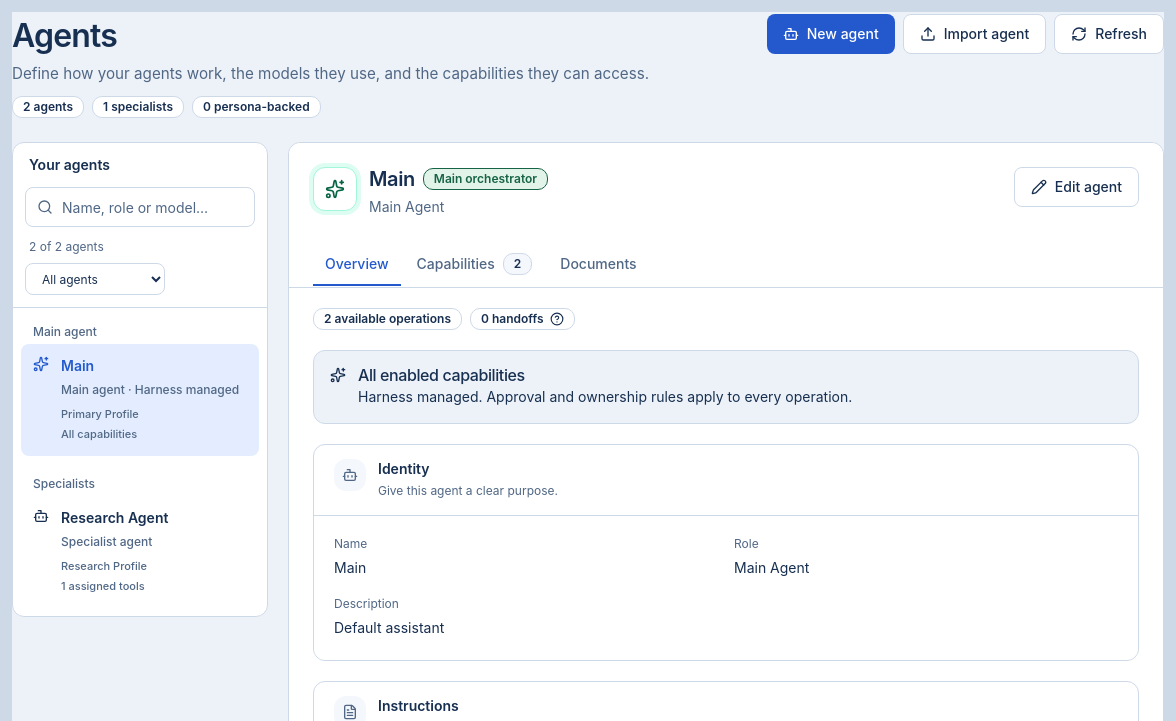
Test: AgentsWorkspace › searches the directory without changing grants and restores the harness when cleared
The width and height of the screenshot is (1176, 721).
Expected: the button with aria-label "Inspect Main" is shown, x1=21 y1=344 x2=259 y2=456
Type "research" into the search field named "Search agents" at point(140, 207), box x1=25 y1=187 x2=255 y2=227
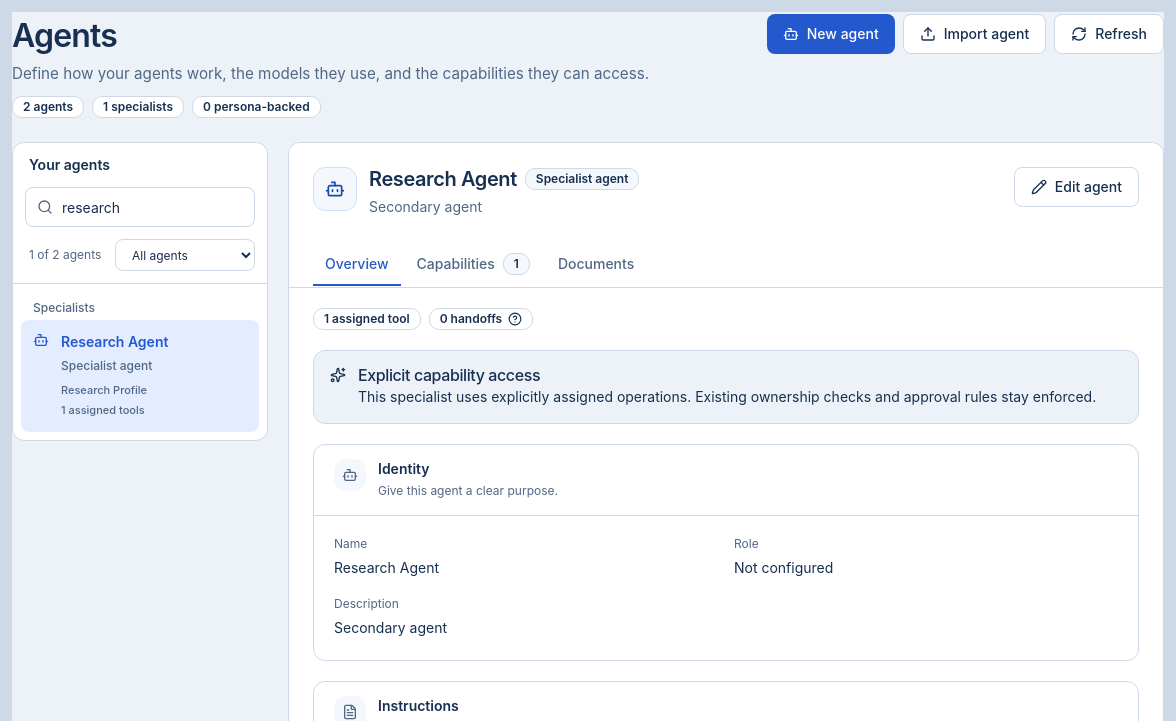
Clear the search field named "Search agents" at point(140, 207), box x1=25 y1=187 x2=255 y2=227
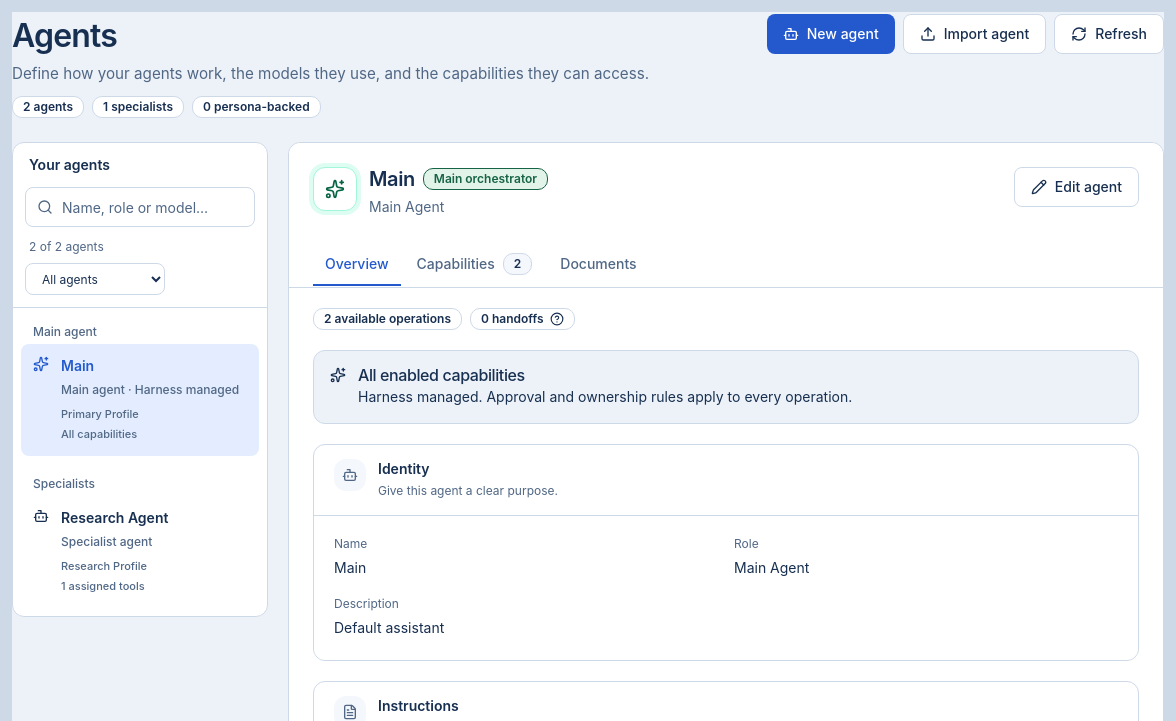
Expected: the heading "All enabled capabilities" is shown, x1=358 y1=365 x2=525 y2=385
